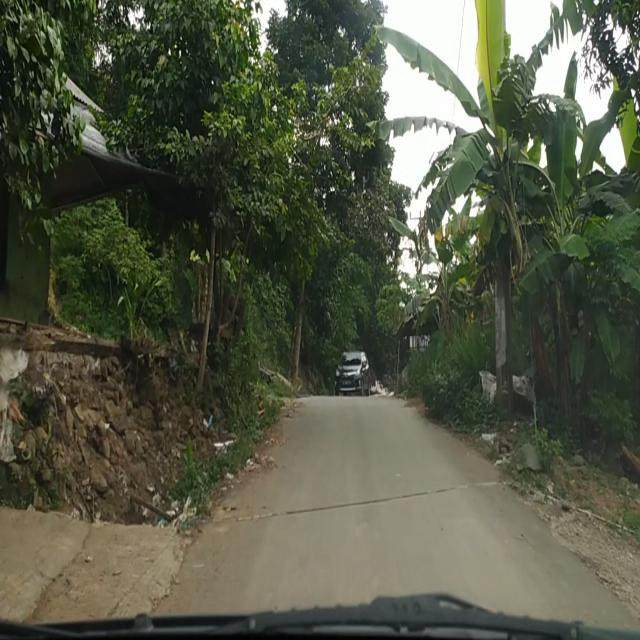Sewer Cover: (275, 485, 461, 515)
